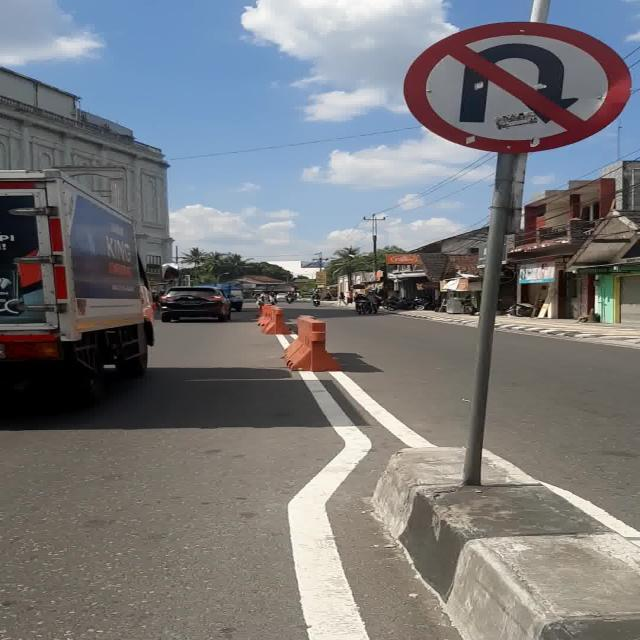Dilarang Putar Balik: (402, 22, 632, 154)
